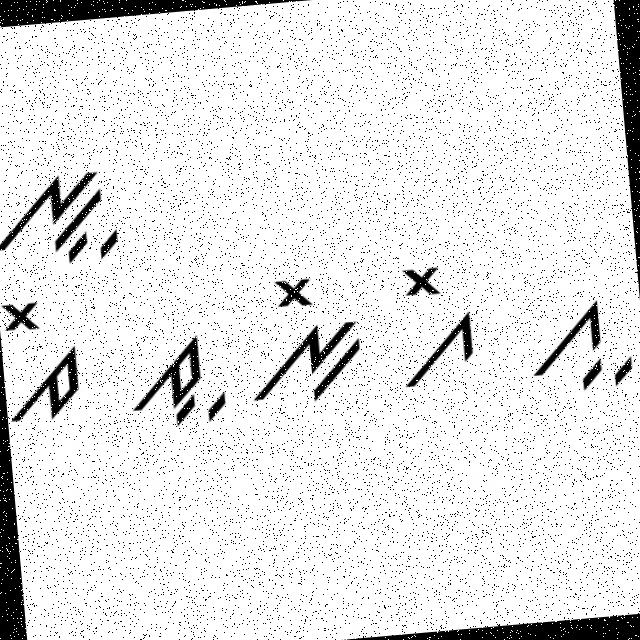gah: (518, 283, 640, 408)
go: (388, 257, 482, 403)
ngah: (0, 159, 125, 283)
ngo: (242, 261, 368, 418)
tah: (123, 324, 232, 434)
to: (0, 293, 88, 429)
